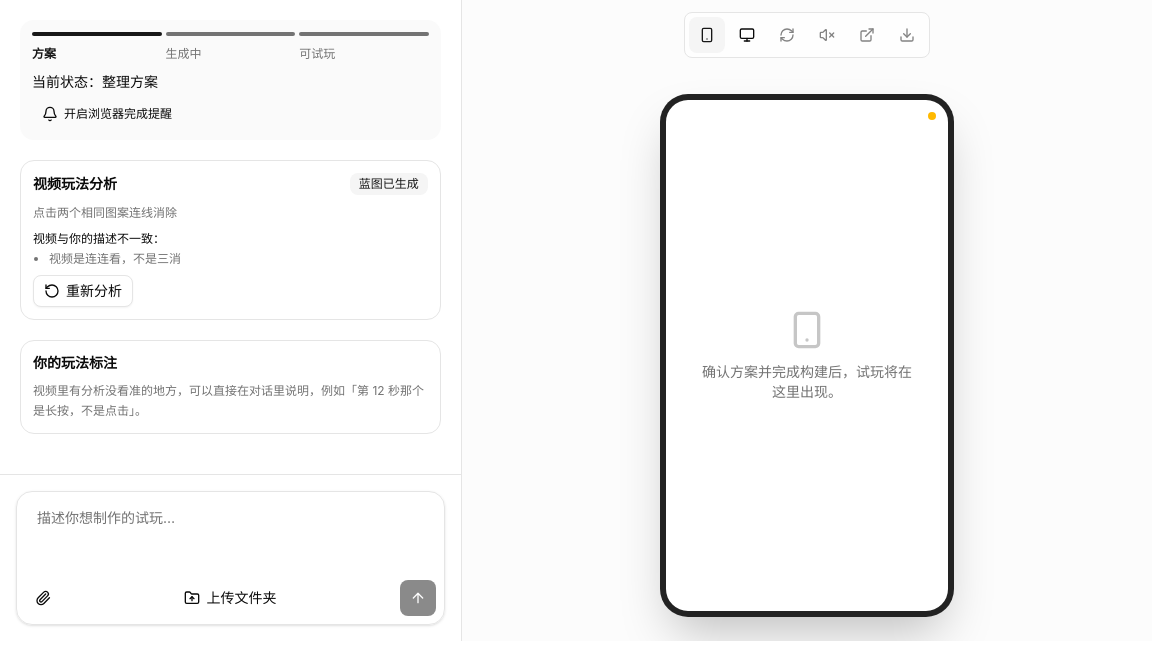
reference video analysis in the workspace › shows the list the agent recorded during a turn
expect the element "玩法标注" shows "可以直接在对话里说明": met, box [33,383,424,418]
In the text box named "试玩需求": {"x": 230, "y": 540} [25,500,436,580], type "第 12 秒是长按"
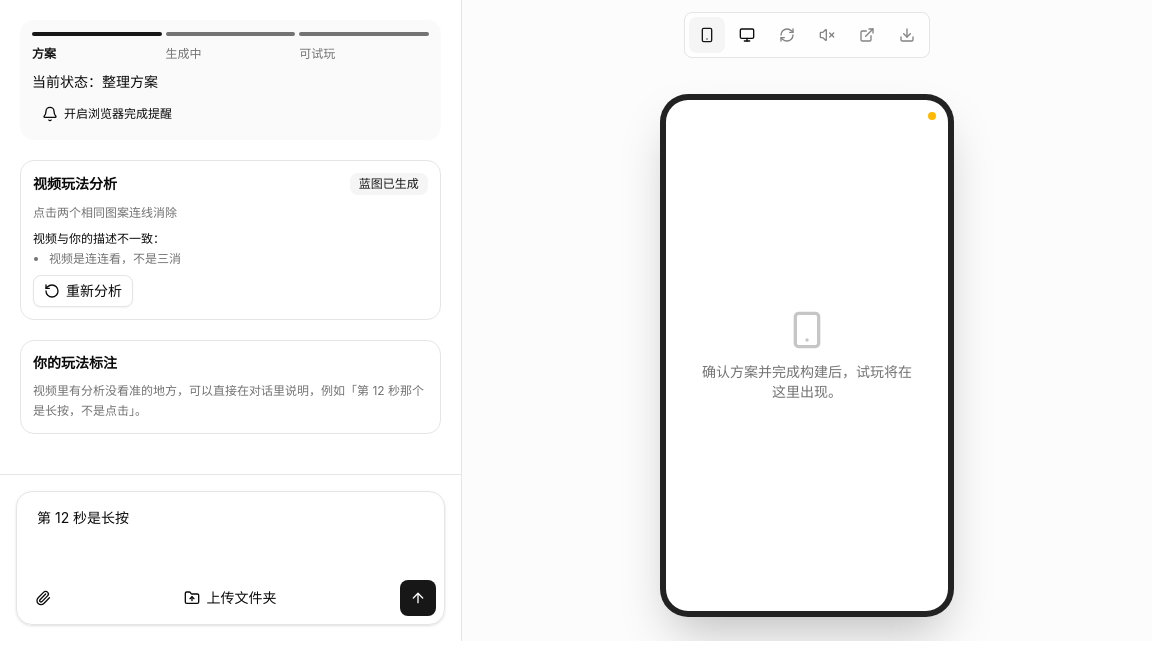
Click the button named "发送需求": {"x": 418, "y": 598} [400,580,436,616]
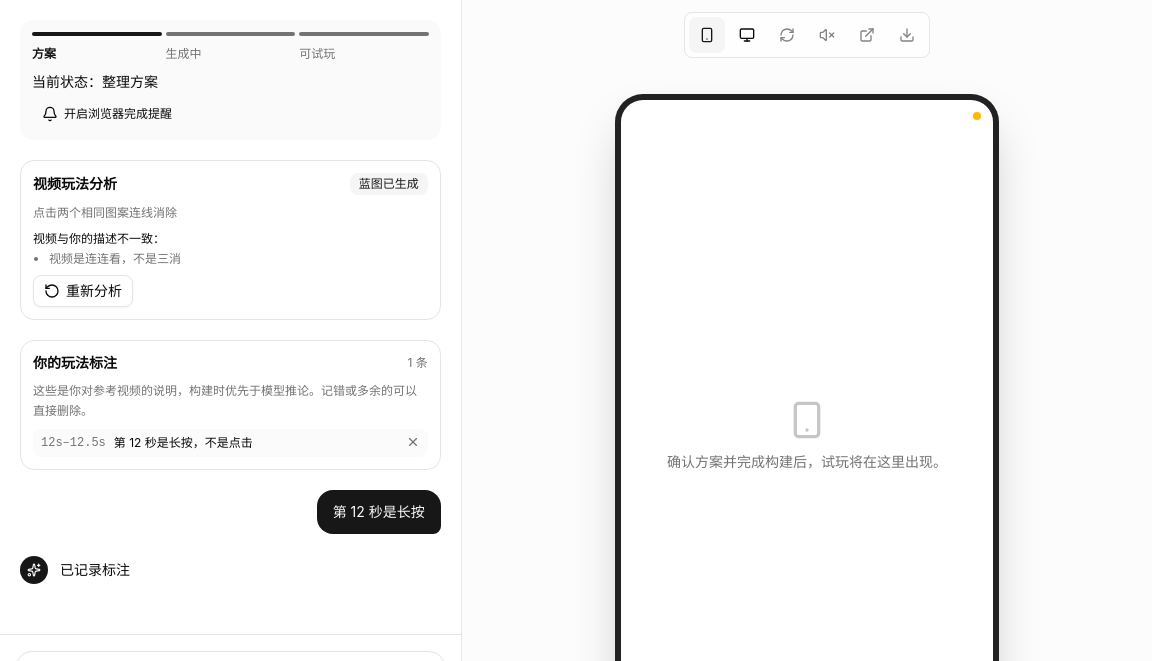
expect the text "已记录标注" is shown: met, box [60,561,130,578]
expect the element "玩法标注" shows "第 12 秒是长按，不是点击": met, box [114,435,253,450]
